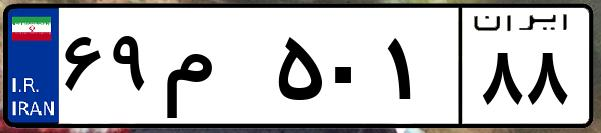0: (330, 28, 385, 110)
1: (385, 28, 445, 110)
5: (270, 28, 330, 110)
6: (57, 26, 110, 100)
8: (475, 38, 525, 113), (525, 38, 570, 115)
9: (110, 28, 158, 98)
م: (158, 20, 270, 120)
